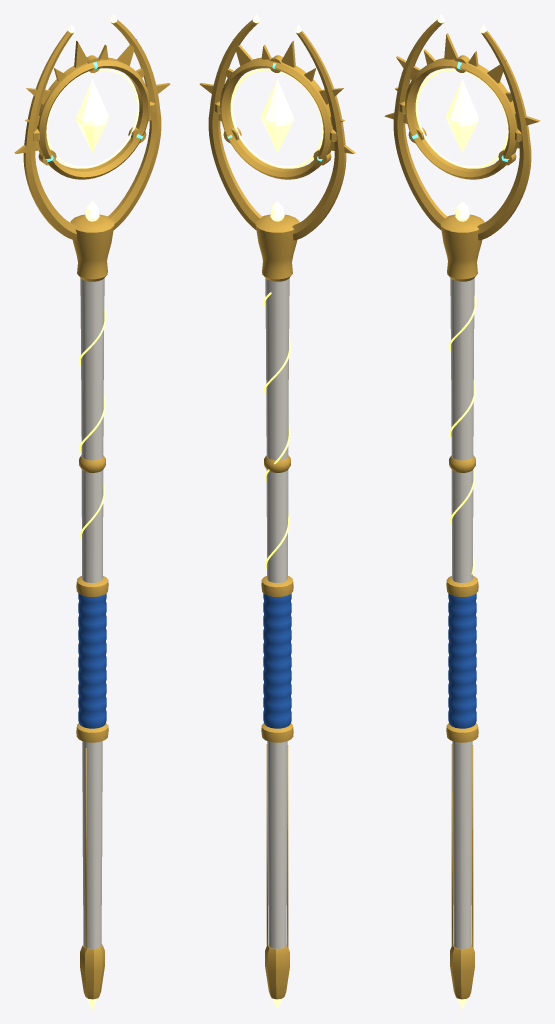
The model's file is staff.glb.
The picture shows the model from 3 angles, left to right: view 1: azimuth 30°, elevation 25°; view 2: azimuth 150°, elevation 25°; view 3: azimuth 330°, elevation 25°; orthographic projection.
Visible parts, largest first — view 1: Shaft, RadiantStaff_Gold, Halo_Gold, Grip, SunCore, HaloLight, SunThread, RadiantStaff_Sunstone; view 2: RadiantStaff_Gold, Shaft, Halo_Gold, Grip, SunCore, HaloLight, SunThread, RadiantStaff_Sunstone; view 3: RadiantStaff_Gold, Shaft, Halo_Gold, Grip, SunCore, HaloLight, SunThread, RadiantStaff_Sunstone.
Boxes of the visible parts, x1,y1,x2,y2 form: Shaft: [80, 278, 104, 948]; RadiantStaff_Gold: [23, 19, 161, 999]; Halo_Gold: [14, 39, 170, 179]; Grip: [78, 593, 106, 728]; SunCore: [76, 79, 108, 152]; HaloLight: [46, 68, 139, 168]; SunThread: [79, 306, 106, 540]; RadiantStaff_Sunstone: [67, 14, 117, 1009]; RadiantStaff_Gold: [208, 19, 346, 999]; Shaft: [265, 278, 289, 948]; Halo_Gold: [199, 39, 355, 179]; Grip: [263, 593, 291, 728]; SunCore: [261, 79, 293, 152]; HaloLight: [230, 68, 323, 168]; SunThread: [263, 292, 291, 569]; RadiantStaff_Sunstone: [252, 14, 302, 1009]; RadiantStaff_Gold: [393, 19, 531, 999]; Shaft: [450, 278, 474, 948]; Halo_Gold: [384, 33, 540, 179]; Grip: [448, 593, 476, 728]; SunCore: [446, 79, 478, 152]; HaloLight: [415, 68, 508, 168]; SunThread: [448, 292, 476, 574]; RadiantStaff_Sunstone: [437, 14, 487, 1009].
Size of the model in its own units: 0.2629 by 1.61 by 0.066.
